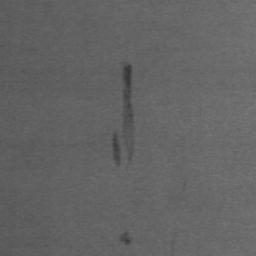Iron scale compression: (111, 62, 135, 166), (119, 231, 132, 245)
